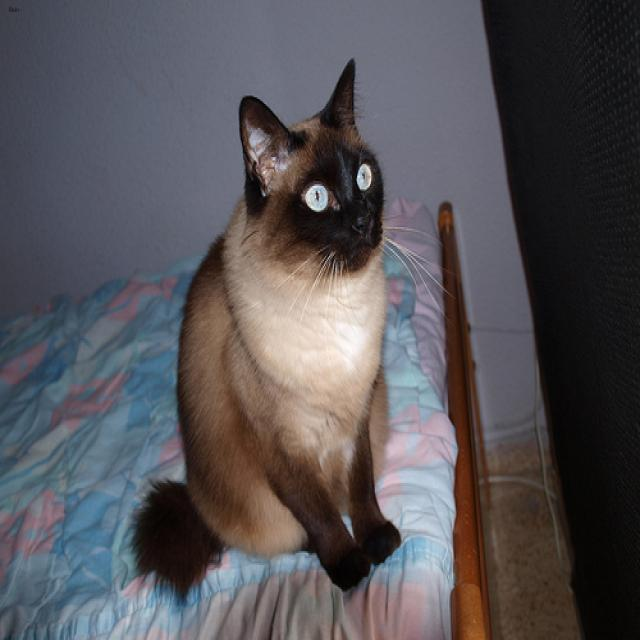Siamese: (233, 53, 393, 274)
